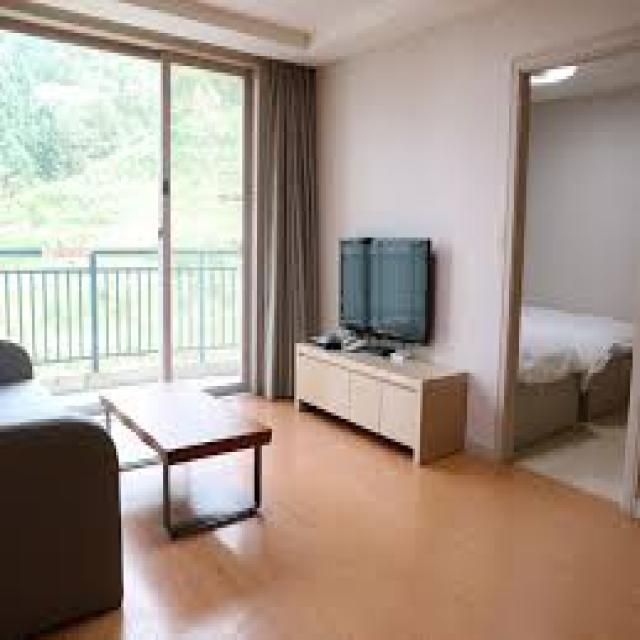Sofa: (3, 332, 121, 624)
Table: (103, 385, 272, 534)
tv: (336, 234, 436, 348)
window: (5, 23, 292, 318)
